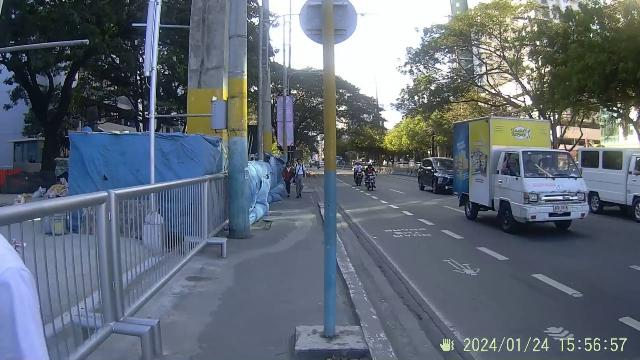street_sign: (299, 0, 359, 354)
